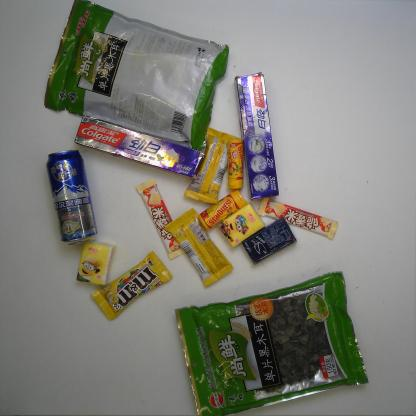Alcohol: (45, 148, 99, 247)
Candy: (198, 189, 248, 232), (227, 139, 245, 190)
Chocolate: (90, 249, 174, 322), (165, 208, 234, 288), (184, 127, 240, 206), (135, 180, 186, 260), (257, 198, 339, 241)
Dried Food: (42, 0, 230, 152), (174, 270, 369, 416)
Gum: (241, 218, 297, 266)
Personal Hygiene: (73, 113, 206, 179), (234, 70, 280, 201)
Tissue: (216, 202, 266, 248), (75, 240, 116, 286)
